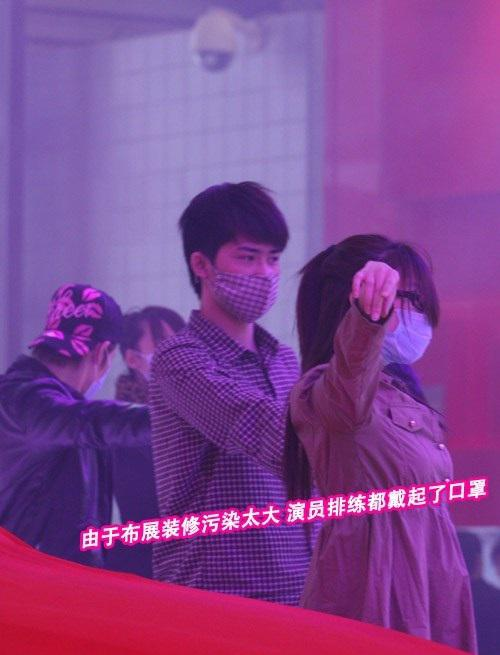OK: (364, 290, 433, 364)
WRONG: (200, 235, 285, 320)
